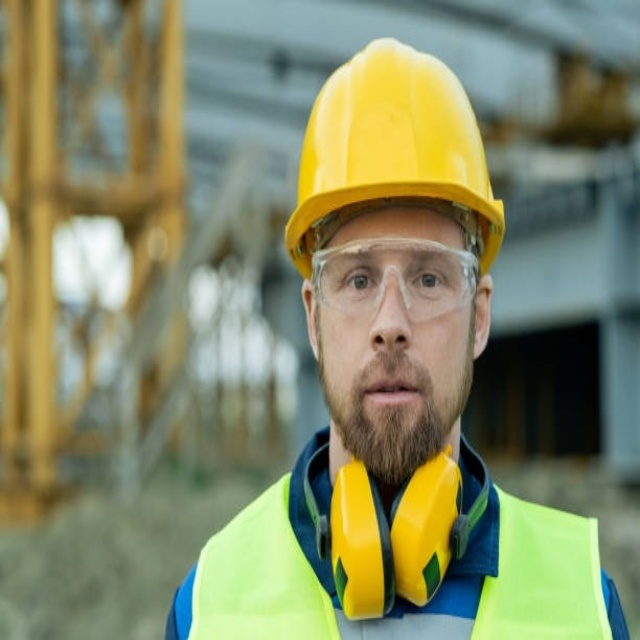Gafas: (307, 234, 480, 325)
Sin_mascara: (356, 353, 428, 436)
